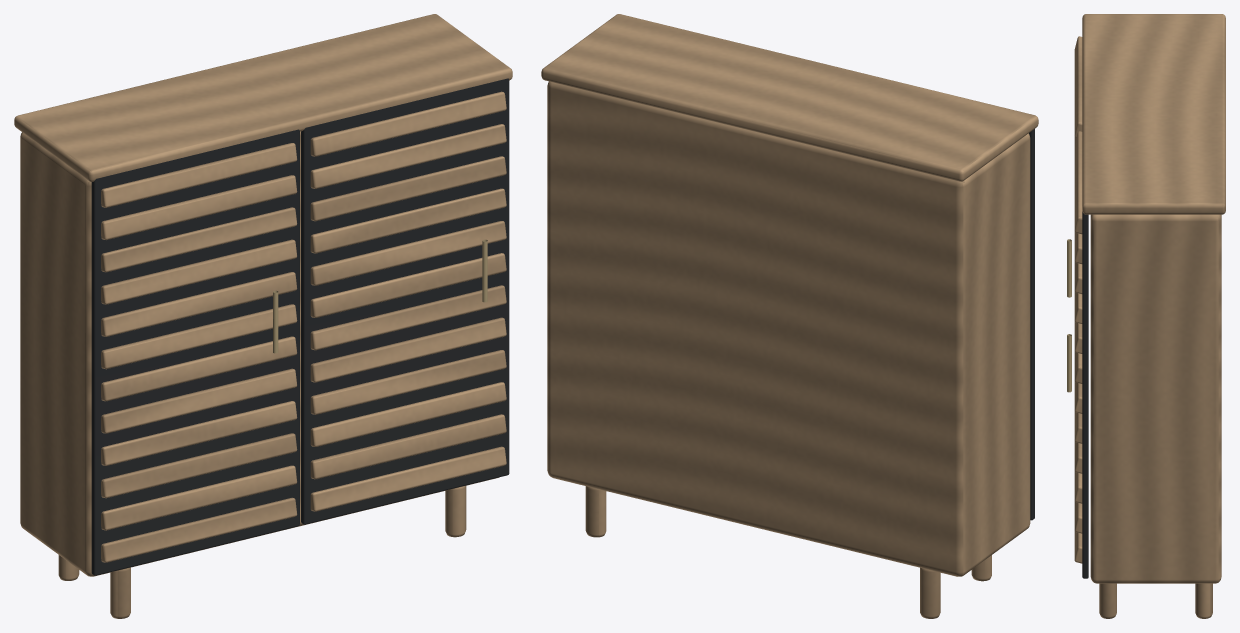
File: shoe_cabinet.glb
3 views of the same model, side by side, from view 1: azimuth 30°, elevation 25°; view 2: azimuth 150°, elevation 25°; view 3: azimuth 270°, elevation 25° (orthographic). The views are drawn at different scales.
Visible parts, largest first — view 1: 家具_shoe_cabinet; view 2: 家具_shoe_cabinet; view 3: 家具_shoe_cabinet.
Part boxes in pixels (x1=…): 家具_shoe_cabinet: x1=14, y1=14, x2=512, y2=618; 家具_shoe_cabinet: x1=541, y1=14, x2=1038, y2=618; 家具_shoe_cabinet: x1=1067, y1=14, x2=1225, y2=618.
Bounding box in the file's own units: 1 × 1.05 × 0.35.
3 materials, 1 textured.
